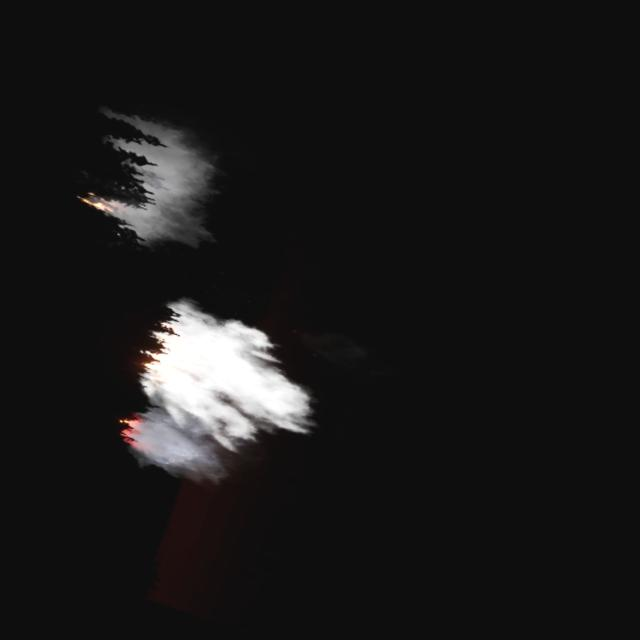smoke: (91, 280, 342, 518), (80, 106, 232, 260)
